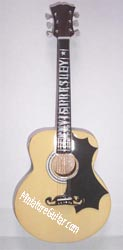guitar: (12, 3, 113, 243)
